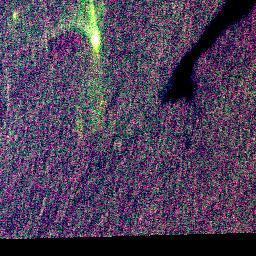Ship: (88, 23, 104, 52), (11, 10, 16, 22)
